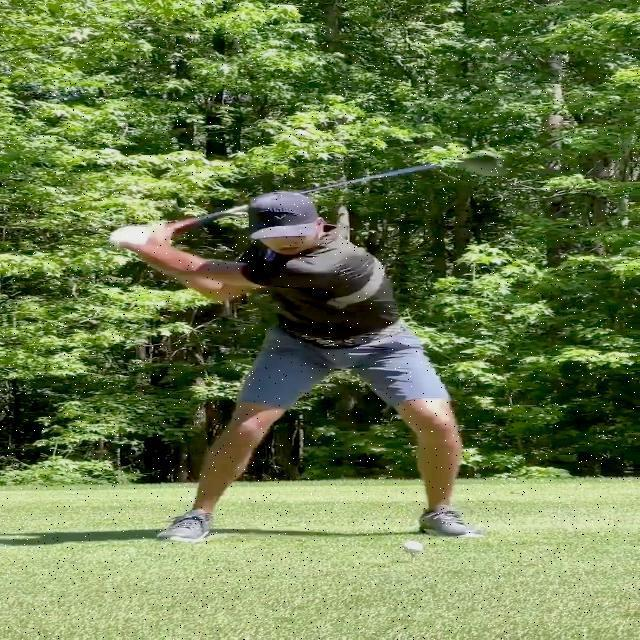ClubHead: (463, 151, 507, 177)
GolfBall: (402, 541, 426, 554)
